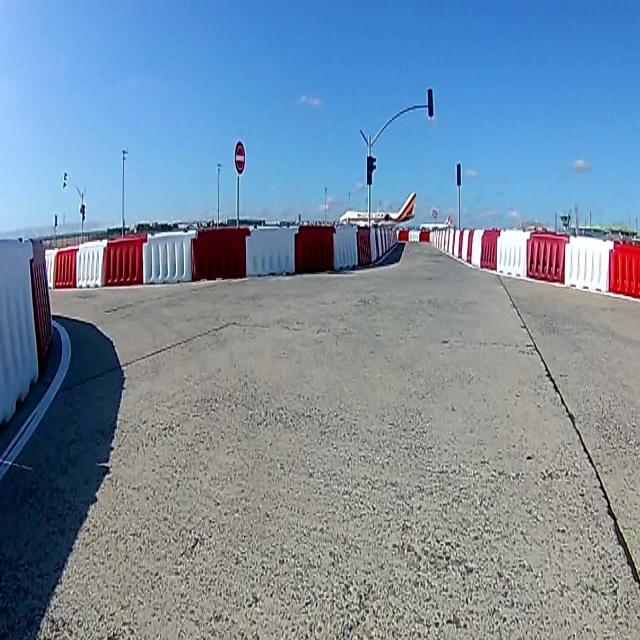girisyok: (235, 142, 245, 174)
